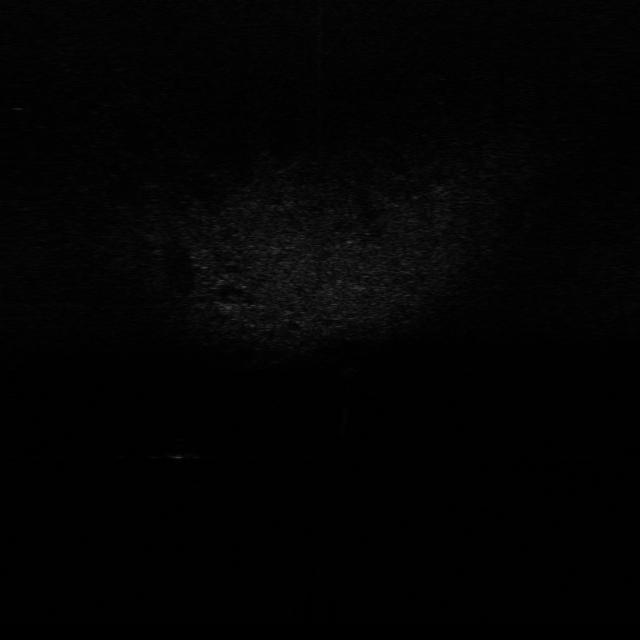ball: (160, 435, 200, 462)
cube: (338, 364, 364, 384)
